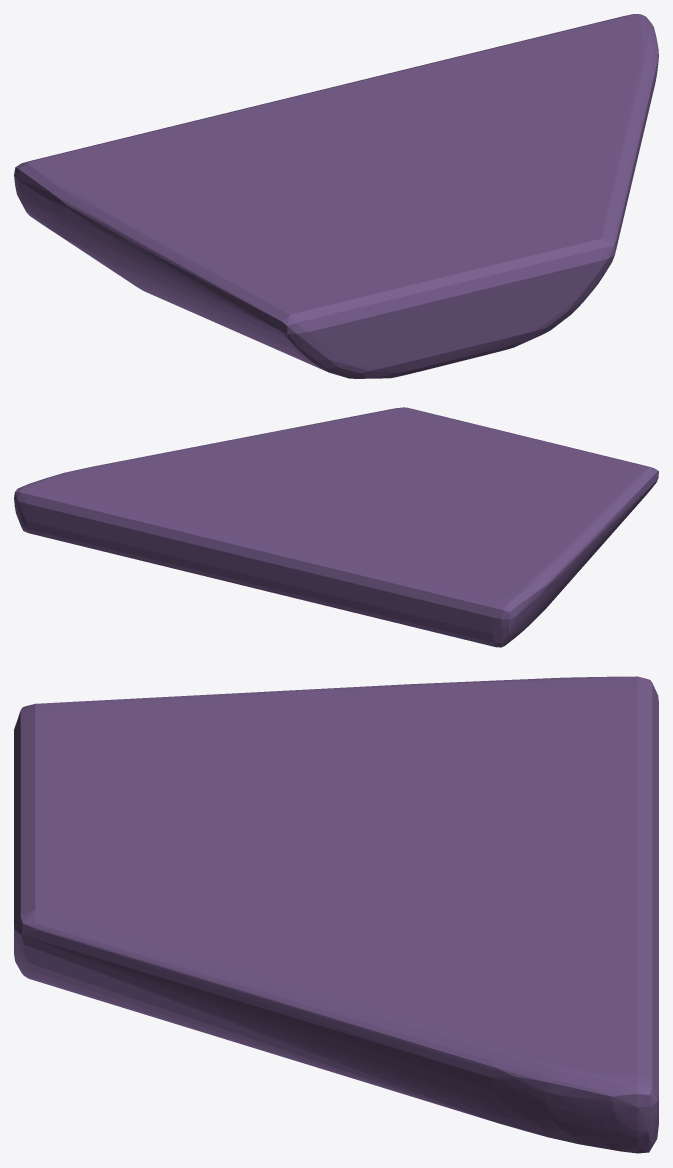
The model's file is left_shoulder_yaw_link_part_1.obj.
3 renders of one model, top to bottom at view 1: azimuth 30°, elevation 25°; view 2: azimuth 150°, elevation 25°; view 3: azimuth 270°, elevation 25°, orthographic. The views are drawn at different scales.
Bounding box in the file's own units: 0.0972 × 0.0152 × 0.0633.
